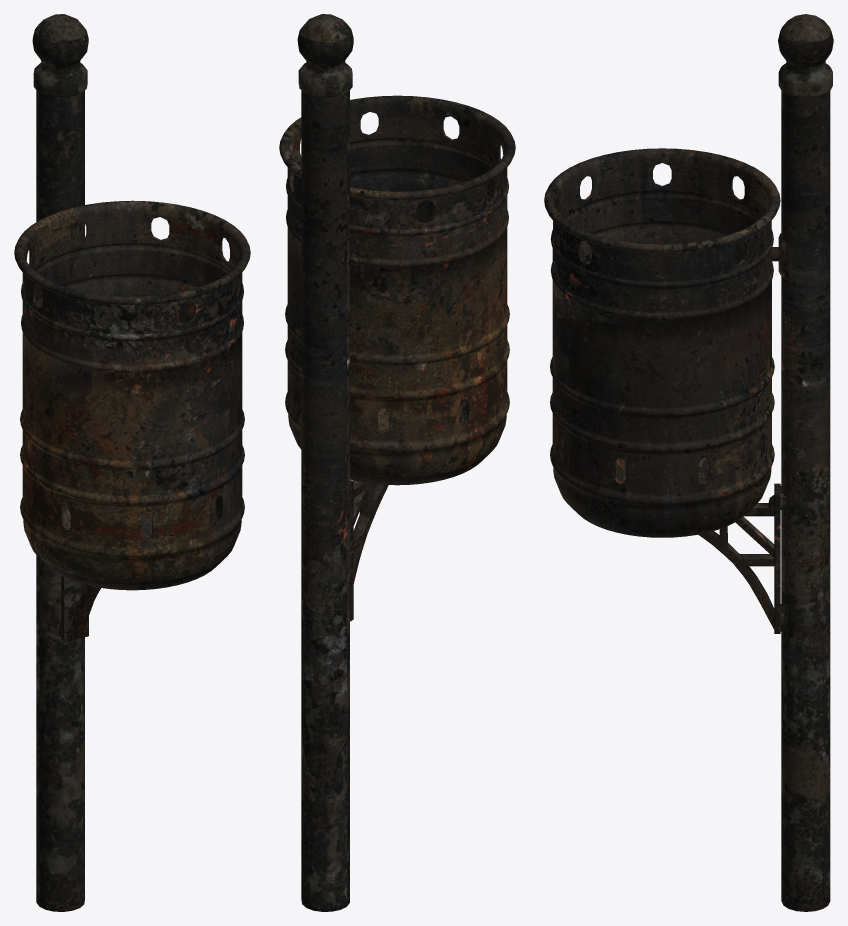
File: bote_basura.fbx
3 renders of one model, left to right at view 1: azimuth 30°, elevation 25°; view 2: azimuth 150°, elevation 25°; view 3: azimuth 270°, elevation 25°, orthographic.
Visible parts, largest first — view 1: Trash_Bin; view 2: Trash_Bin; view 3: Trash_Bin.
Boxes of the visible parts, box(x1,y1,x2,y2) form: Trash_Bin: box(14, 14, 250, 911); Trash_Bin: box(279, 14, 515, 911); Trash_Bin: box(544, 14, 833, 911).
Size of the model in its own units: 35.39 by 146 by 43.37.
